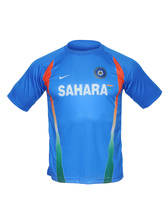clothoes: (9, 38, 162, 191)
